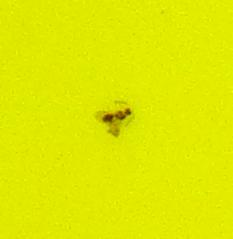Hymenoptera: (100, 100, 133, 139)
